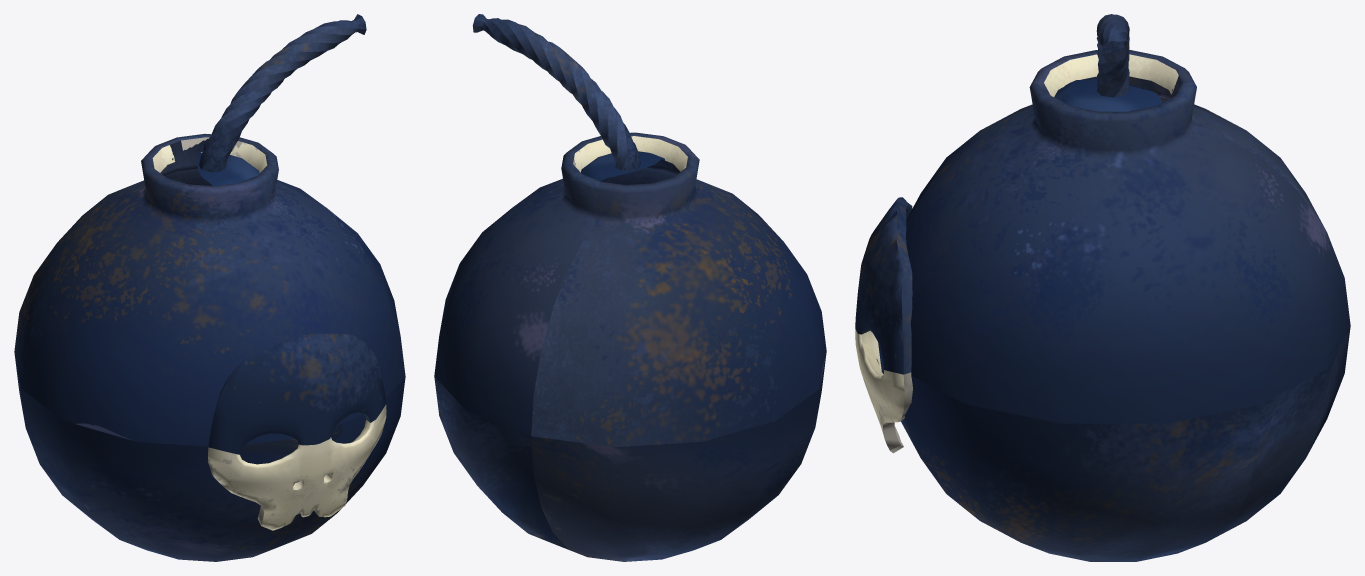
Rendered from bombCut.fbx.
3 views of the same model, side by side, from view 1: azimuth 30°, elevation 25°; view 2: azimuth 150°, elevation 25°; view 3: azimuth 270°, elevation 25° (orthographic). The views are drawn at different scales.
Visible parts, largest first — view 1: bombCut_top, bombCut_below; view 2: bombCut_top, bombCut_below; view 3: bombCut_top, bombCut_below.
Boxes of the visible parts, box(x1,y1,x2,y2) form: bombCut_top: box(14, 14, 405, 454); bombCut_below: box(14, 354, 405, 561); bombCut_top: box(434, 14, 826, 447); bombCut_below: box(434, 352, 826, 561); bombCut_top: box(855, 14, 1350, 423); bombCut_below: box(855, 326, 1350, 561).
Size of the model in its own units: 195 by 272 by 209.
